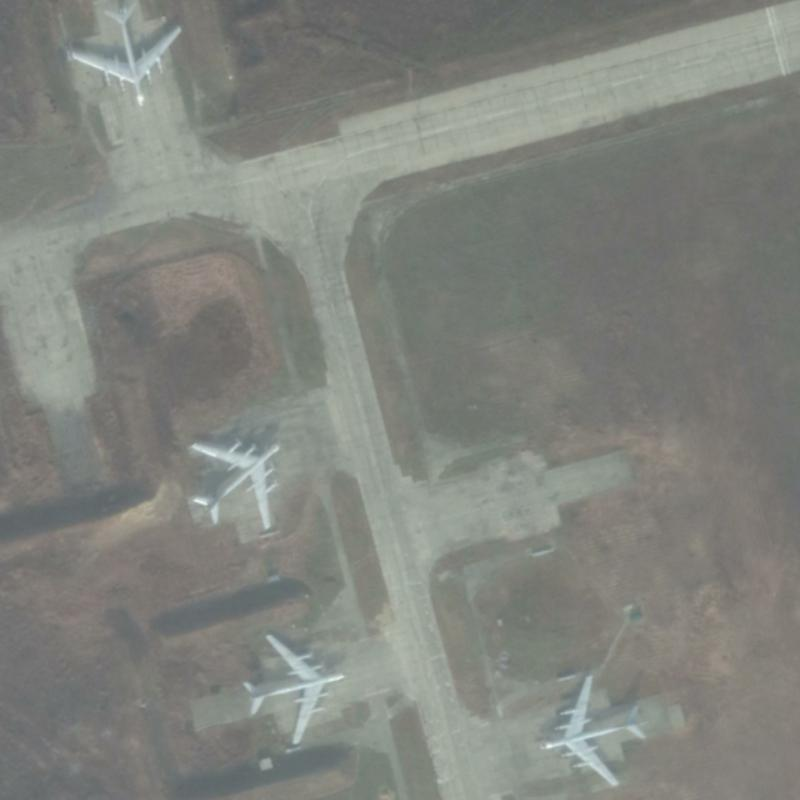A17: (536, 673, 649, 787), (67, 1, 183, 107), (240, 632, 346, 746), (188, 437, 281, 531)
